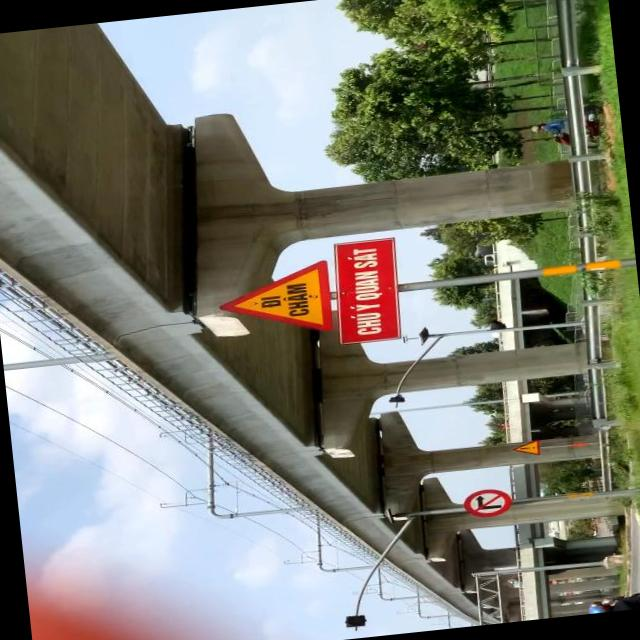P-123b: (457, 485, 512, 520)
W-245a: (213, 270, 335, 340)
